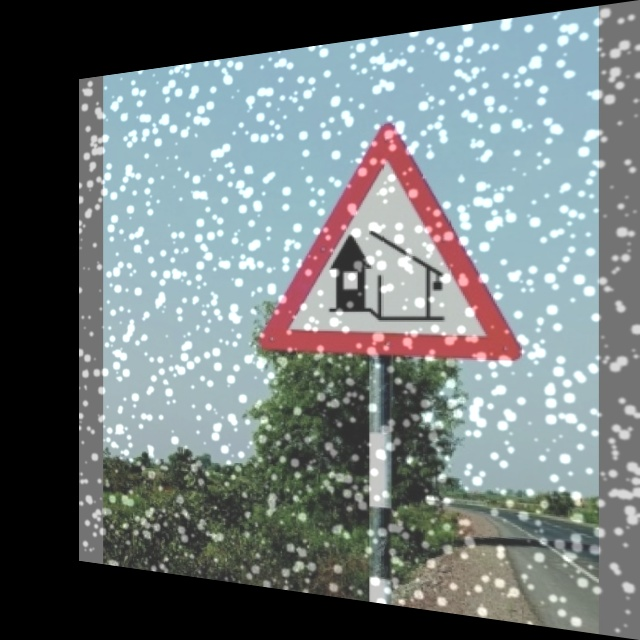Barrier_Ahead: (259, 109, 526, 362)
